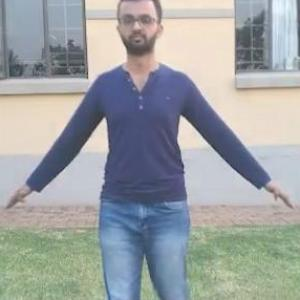land: (5, 0, 271, 299)
